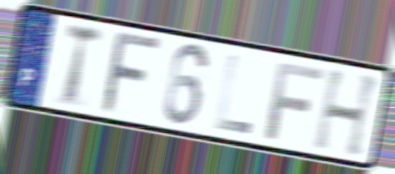6: (162, 42, 211, 129)
F: (98, 31, 167, 117), (263, 60, 327, 143)
H: (310, 67, 384, 160)
L: (213, 51, 254, 137)
T: (62, 20, 106, 110)
